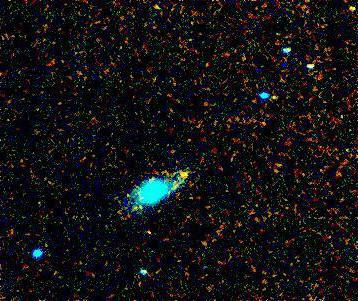star: (170, 159, 200, 189)
